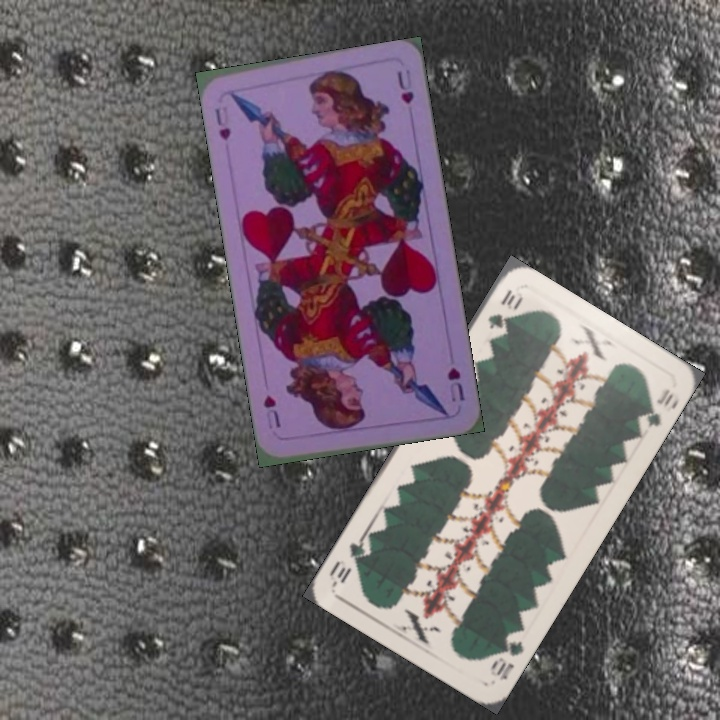G10: (486, 627, 527, 683), (484, 285, 524, 332)
HU: (443, 364, 468, 403), (211, 102, 233, 144)
